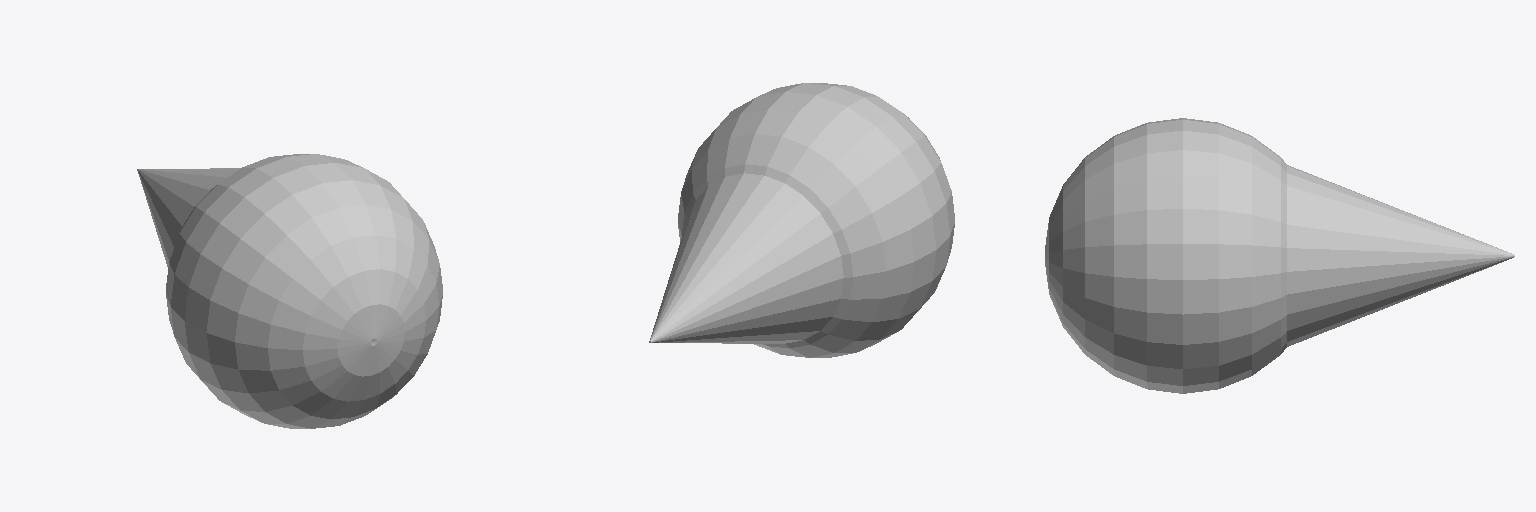
File: flame.obj
The picture shows the model from 3 angles: view 1: azimuth 30°, elevation 25°; view 2: azimuth 150°, elevation 25°; view 3: azimuth 270°, elevation 25°; orthographic projection.
Visible parts, largest first — view 1: sphere_full_0, cylinder_cone_1; view 2: sphere_full_0, cylinder_cone_1; view 3: sphere_full_0, cylinder_cone_1.
Part boxes in pixels (bbox=[...]): sphere_full_0: bbox=[166, 154, 442, 428]; cylinder_cone_1: bbox=[137, 168, 240, 266]; sphere_full_0: bbox=[678, 83, 954, 357]; cylinder_cone_1: bbox=[649, 173, 843, 343]; sphere_full_0: bbox=[1045, 118, 1286, 393]; cylinder_cone_1: bbox=[1287, 165, 1514, 346].
Size of the model in its own units: 1 by 1 by 1.7.